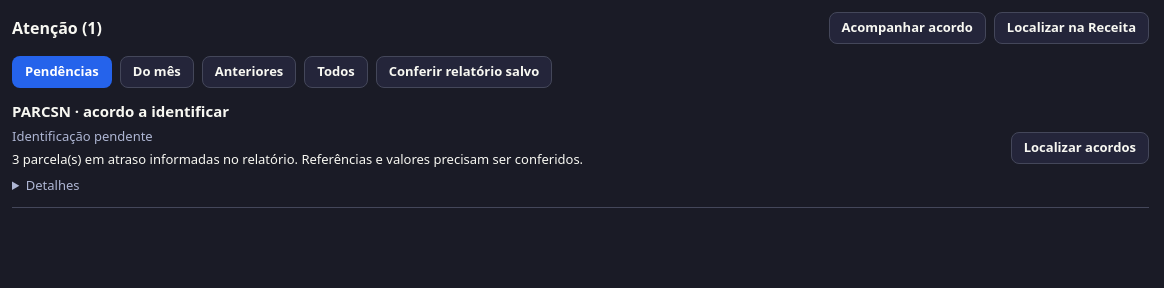
Test: falha na consulta fica visível e não apaga a indicação anterior
The width and height of the screenshot is (1164, 288).
Click the button "Localizar acordos": [1080, 148] box x1=1011 y1=132 x2=1149 y2=164
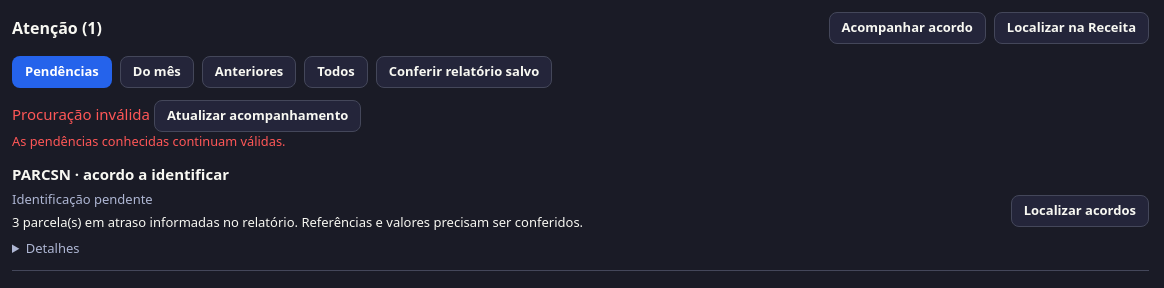
Expected: the text "Identificação pendente" is shown, x1=12 y1=190 x2=153 y2=208
Result: the text "Procuração inválida" is shown at x1=12 y1=104 x2=150 y2=124
